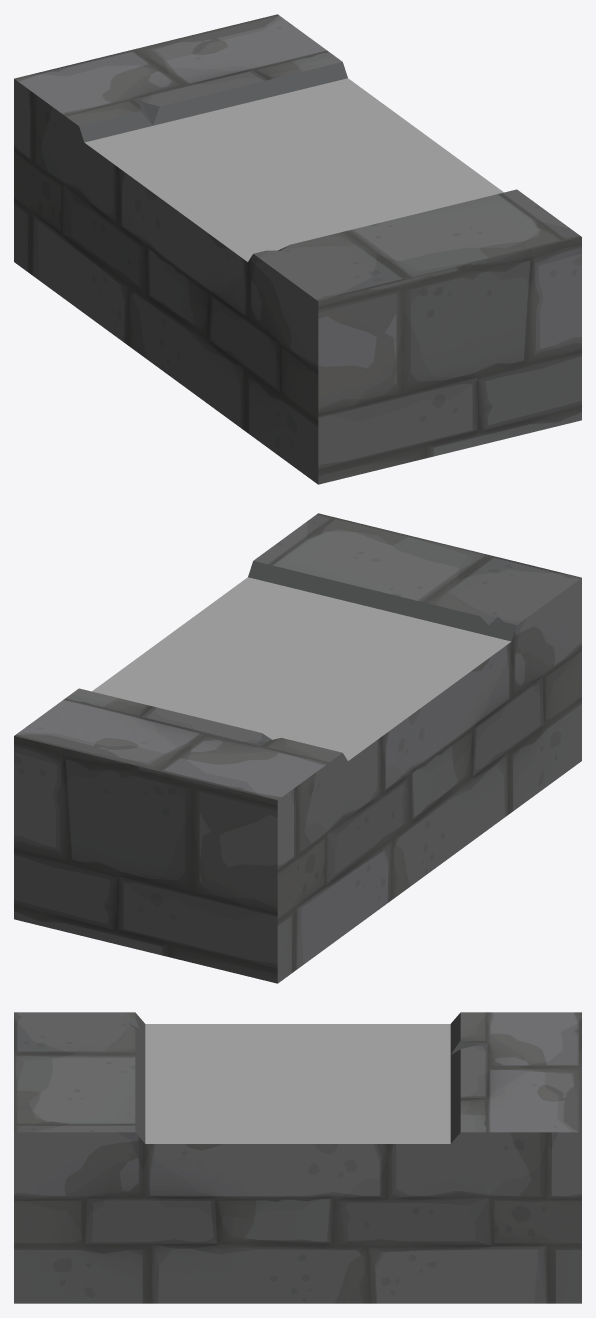
The model's file is SM_Bld_Bridge_L_Middle_01.fbx.
3 views of the same model, one above another, from view 1: azimuth 30°, elevation 25°; view 2: azimuth 150°, elevation 25°; view 3: azimuth 270°, elevation 25° (orthographic). The views are drawn at different scales.
Visible parts, largest first — view 1: SM_Bld_Bridge_L_Middle_01; view 2: SM_Bld_Bridge_L_Middle_01; view 3: SM_Bld_Bridge_L_Middle_01.
Part boxes in pixels (box(x1,y1,x2,y2)): SM_Bld_Bridge_L_Middle_01: box(14, 14, 581, 484); SM_Bld_Bridge_L_Middle_01: box(14, 513, 581, 983); SM_Bld_Bridge_L_Middle_01: box(14, 1012, 581, 1303).
Bounding box in the file's own units: 250 × 166 × 500.
Materials: 2 (1 with a texture image).
